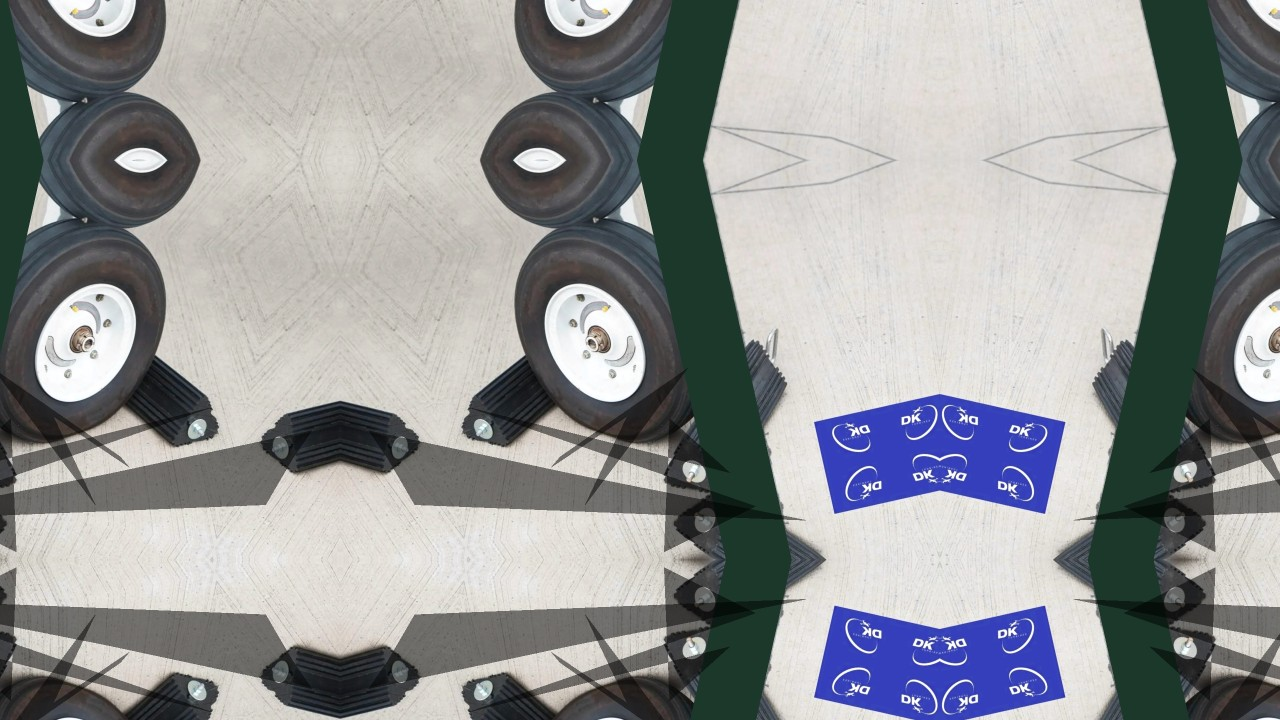chock: (637, 329, 825, 503), (1055, 329, 1243, 503), (637, 617, 825, 720), (1055, 617, 1243, 720), (668, 468, 856, 560), (1024, 468, 1212, 560), (668, 560, 856, 652), (1024, 560, 1212, 652), (102, 337, 235, 458), (445, 337, 578, 458), (253, 371, 340, 492), (340, 371, 427, 492), (253, 628, 340, 720), (340, 628, 427, 720), (102, 662, 235, 720), (445, 662, 578, 720), (0, 329, 43, 503), (0, 617, 43, 720)
wheel: (499, 200, 734, 462), (0, 200, 181, 462), (1146, 200, 1280, 462), (499, 0, 734, 120), (0, 0, 181, 120), (449, 79, 685, 160), (449, 160, 685, 241), (0, 79, 231, 160), (0, 160, 231, 241), (1146, 0, 1280, 120), (499, 658, 734, 720), (0, 658, 181, 720), (1146, 658, 1280, 720), (1195, 79, 1280, 160), (1195, 160, 1280, 241)
